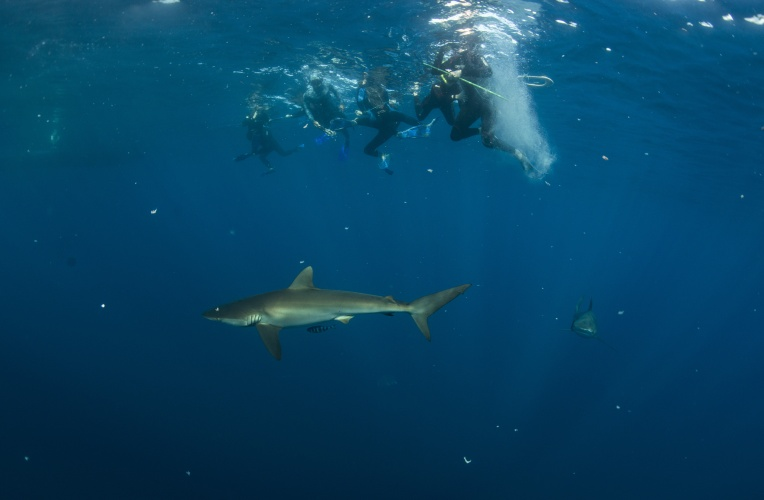Sedoso: (193, 262, 478, 369)
